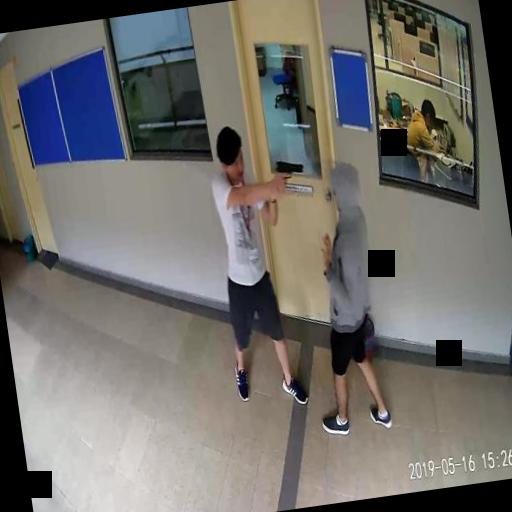Handgun: (272, 155, 304, 193)
